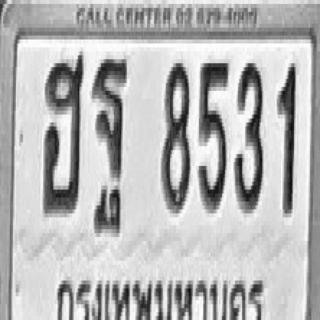A16: (92, 55, 127, 209)
A44: (43, 51, 84, 213)
N01: (277, 61, 296, 215)
N03: (234, 59, 263, 213)
N05: (198, 59, 228, 213)
N08: (161, 59, 190, 213)
